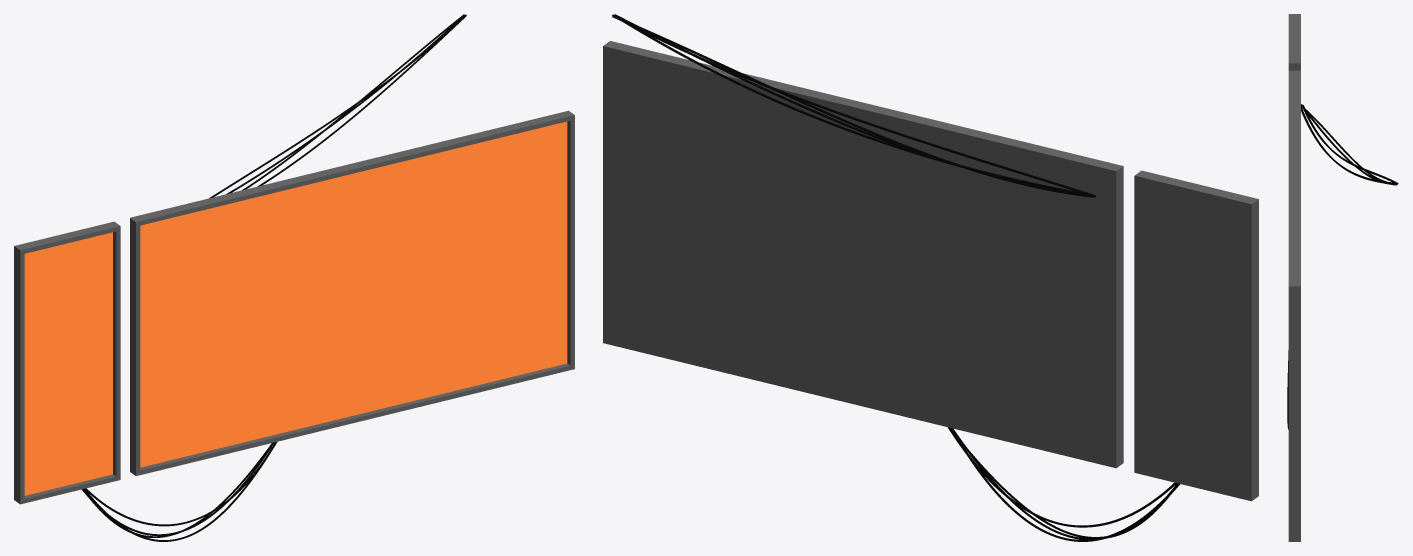
File: MonitorBig.glb
3 views of the same model, side by side, from view 1: azimuth 30°, elevation 25°; view 2: azimuth 150°, elevation 25°; view 3: azimuth 270°, elevation 25° (orthographic). The views are drawn at different scales.
Visible parts, largest first — view 1: MonitprBig; view 2: MonitprBig; view 3: MonitprBig.
Part boxes in pixels (box(x1,y1,x2,y2)): MonitprBig: box(14, 14, 574, 541); MonitprBig: box(603, 14, 1258, 541); MonitprBig: box(1287, 14, 1398, 541).
Bounding box in the file's own units: 9.21 × 6.41 × 1.59.
